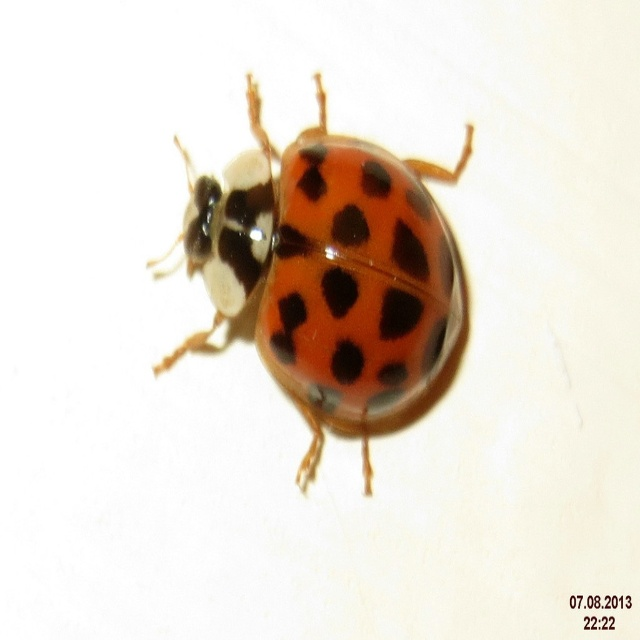Ladybug: (150, 73, 476, 493)
